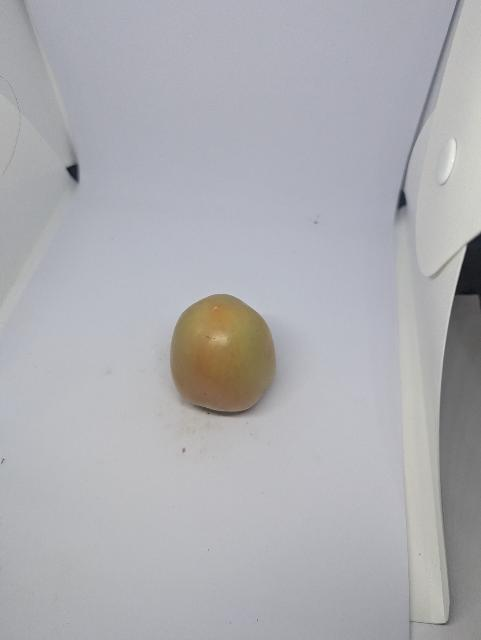breaker: (166, 285, 285, 426)
